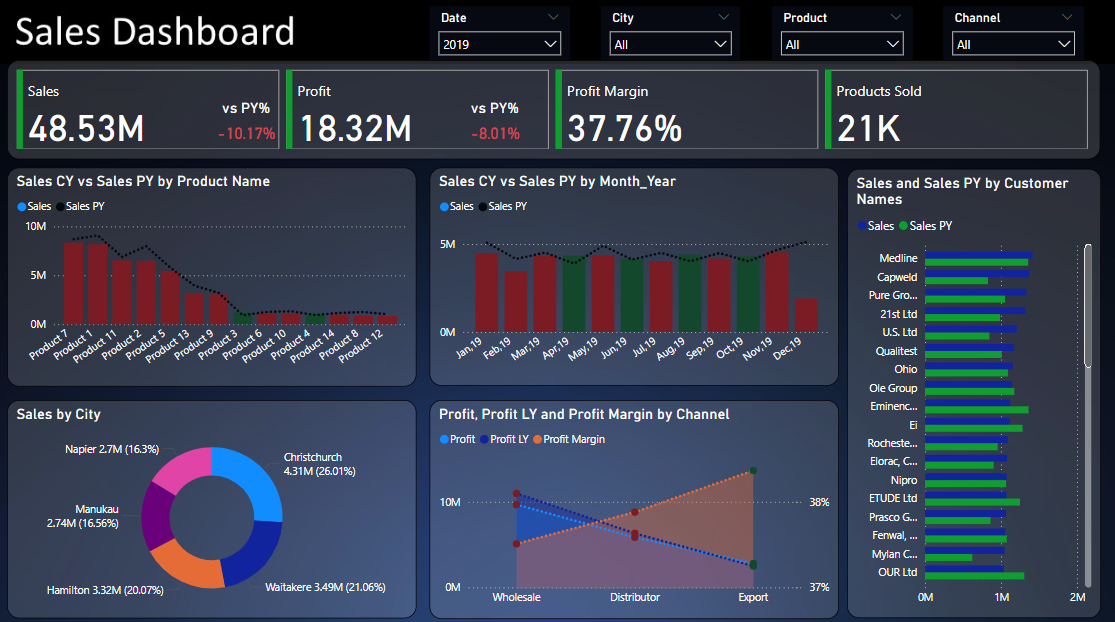

What the dashboard file says about the page in this screenshot:
{"tool":"powerbi","page":{"name":"Sales Dashboard","canvas":[1280,720],"ordinal":0},"visuals":[{"type":"slicer","fields":{"Values":["DateTable.Year","DateTable.Month Short Name Plus Year"]},"box":[494.6,6.9,160.5,61.5],"z":0},{"type":"slicer","fields":{"Values":["Regions_Table.City"]},"box":[690.5,6.9,159.3,61.5],"z":1000},{"type":"slicer","fields":{"Values":["Products_Data.Product Name"]},"box":[885.1,6.9,160.5,61.5],"z":2000},{"type":"slicer","fields":{"Values":["Sales_Data.Channel"]},"box":[1081,6.9,160.5,61.5],"z":3000},{"type":"lineStackedColumnComboChart","title":"Sales CY vs Sales PY by Product Name","fields":{"Category":["Products_Data.Product Name"],"Y":["Measures_Table.Sales"],"Y2":["Measures_Table.Sales PY"]},"box":[12,191.8,468,250],"z":4000},{"type":"lineStackedColumnComboChart","title":"Sales CY vs Sales PY by Month_Year","fields":{"Y":["Measures_Table.Sales"],"Y2":["Measures_Table.Sales PY"],"Category":["DateTable.Month Short Name Plus Year"]},"box":[494.6,191.9,468.1,249.7],"z":5000},{"type":"donutChart","fields":{"Y":["Measures_Table.Sales"],"Category":["Regions_Table.City"]},"box":[12,457.2,468.1,249.7],"z":6000},{"type":"areaChart","fields":{"Category":["Sales_Data.Channel"],"Y":["Measures_Table.Profit","Measures_Table.Profit LY"],"Y2":["Measures_Table.Profit Margin"]},"box":[494.6,457.2,468,250],"z":7000},{"type":"clusteredBarChart","fields":{"Y":["Measures_Table.Sales","Measures_Table.Sales PY"],"Category":["Customer_Data.Customer Names"]},"box":[971.2,193,290.8,513.9],"z":8000},{"type":"cardVisual","fields":{"Data":["Measures_Table.Sales","Measures_Table.Profit","Measures_Table.Profit Margin","Measures_Table.Products Sold"]},"box":[12.1,68.8,1249.9,113.4],"z":9000},{"type":"card","title":"vs PY%","fields":{"Values":["Measures_Table.Sales vs PY %"]},"box":[238.1,112.5,92.3,60.6],"z":10000},{"type":"card","title":"vs PY%","fields":{"Values":["Measures_Table.Profit vs LY %"]},"box":[522.3,112.5,92.3,60.6],"z":11000}]}

Visuals, with their boxes in screenshot pixels (x1, y1, x2, y2), scaled from the page's 1280x720 canvas onto the 1115x622 screenshot:
slicer - DateTable.Year x DateTable.Month Short Name Plus Year: <bbox>431, 6, 571, 59</bbox>
slicer - Regions_Table.City: <bbox>601, 6, 740, 59</bbox>
slicer - Products_Data.Product Name: <bbox>771, 6, 911, 59</bbox>
slicer - Sales_Data.Channel: <bbox>942, 6, 1081, 59</bbox>
"Sales CY vs Sales PY by Product Name" lineStackedColumnComboChart: <bbox>10, 166, 418, 382</bbox>
"Sales CY vs Sales PY by Month_Year" lineStackedColumnComboChart: <bbox>431, 166, 839, 381</bbox>
donutChart - Measures_Table.Sales x Regions_Table.City: <bbox>10, 395, 418, 611</bbox>
areaChart - Sales_Data.Channel x Measures_Table.Profit: <bbox>431, 395, 839, 611</bbox>
clusteredBarChart - Measures_Table.Sales x Measures_Table.Sales PY: <bbox>846, 167, 1099, 611</bbox>
cardVisual - Measures_Table.Sales x Measures_Table.Profit: <bbox>11, 59, 1099, 157</bbox>
"vs PY%" card: <bbox>207, 97, 288, 150</bbox>
"vs PY%" card: <bbox>455, 97, 535, 150</bbox>
